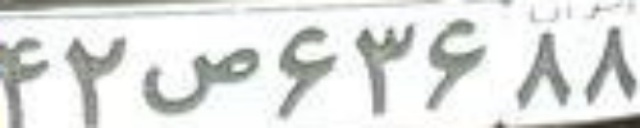2: (61, 32, 126, 127)
3: (352, 20, 413, 115)
4: (0, 36, 50, 127)
6: (418, 18, 485, 109), (274, 25, 338, 118)
8: (580, 24, 638, 105), (515, 30, 571, 109)
saat: (141, 48, 259, 115)
